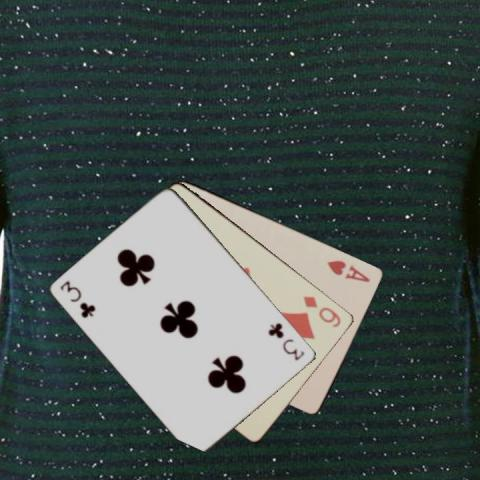3c: (265, 319, 307, 362), (57, 278, 97, 319)
6d: (300, 292, 343, 328)
Ah: (325, 257, 372, 283)
